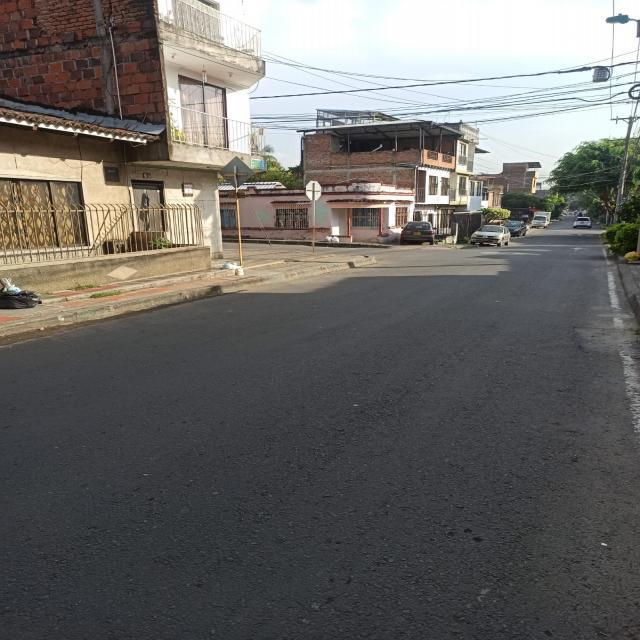Trashbag: (1, 291, 38, 314)
